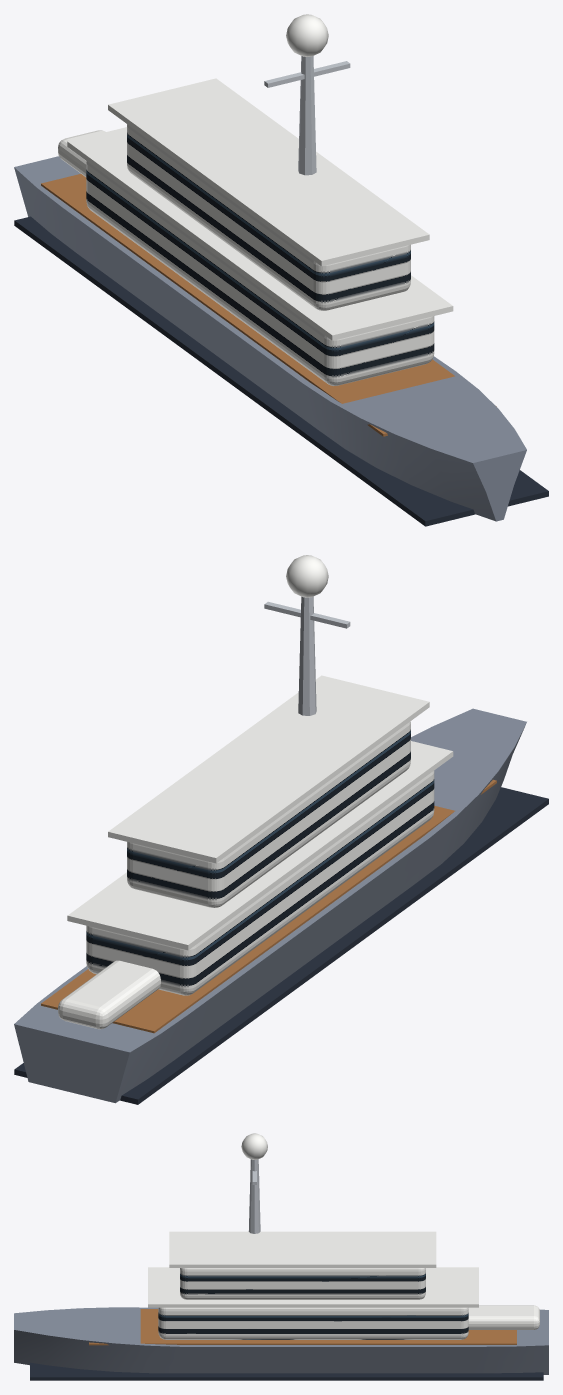
File: superyacht_grey.glb
3 renders of one model, top to bottom at view 1: azimuth 30°, elevation 25°; view 2: azimuth 150°, elevation 25°; view 3: azimuth 270°, elevation 25°, orthographic. The views are drawn at different scales.
Visible parts, largest first — view 1: yacht; view 2: yacht; view 3: yacht.
Part boxes in pixels (x1=…): yacht: x1=14, y1=14, x2=548, y2=526; yacht: x1=14, y1=555, x2=548, y2=1104; yacht: x1=14, y1=1133, x2=548, y2=1380.
Bounding box in the file's own units: 6.12 × 16.87 × 36.
6 materials, 1 textured.
